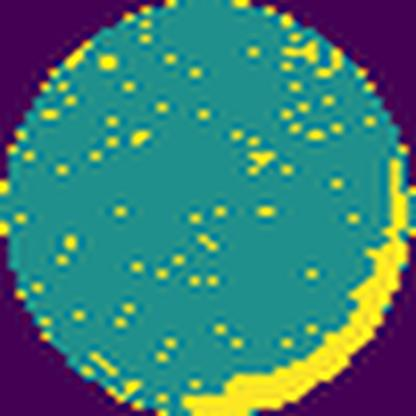Edge-Loc: (173, 142, 415, 416)
